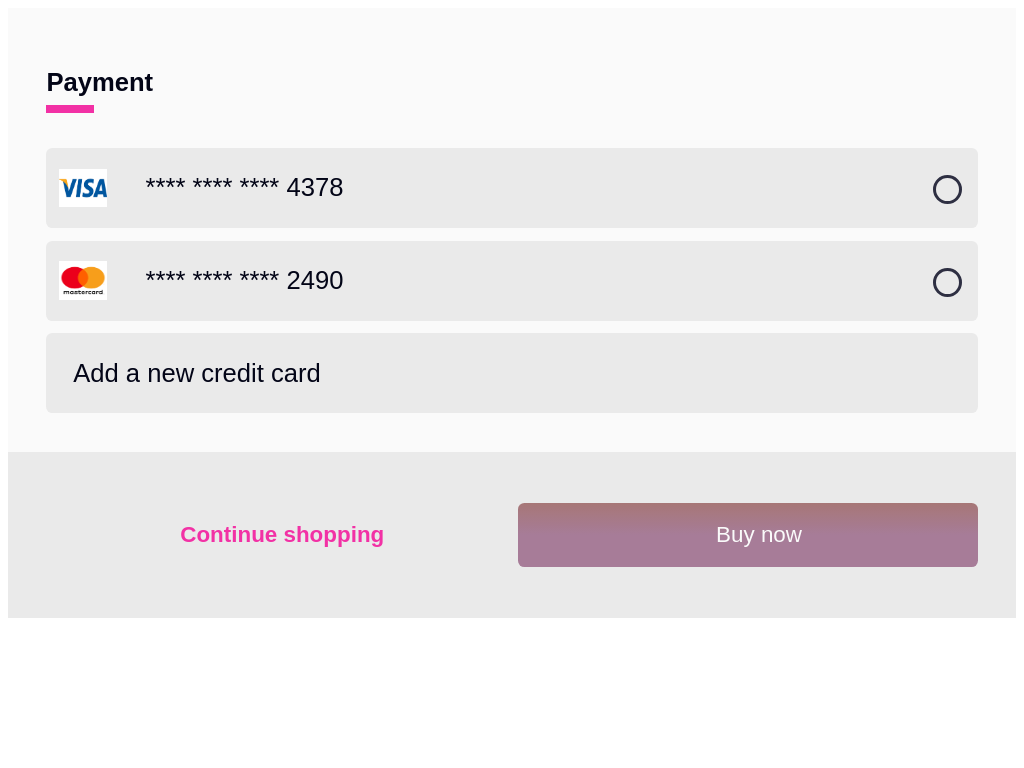
Test: components/PaymentOptions › should handle select card when clicking on the label
Click the text "**** **** **** 4378" at (201, 188), box x1=59 y1=169 x2=343 y2=207
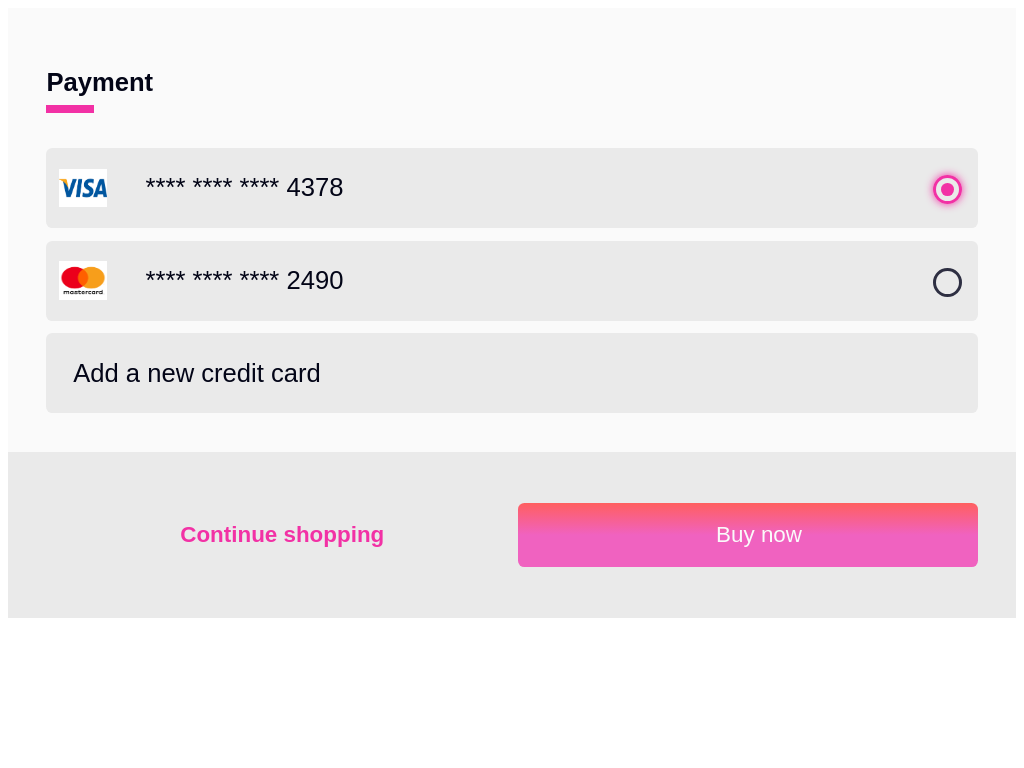
Now the radio button labelled "**** **** **** 4378" is checked, box x1=933 y1=175 x2=962 y2=204
